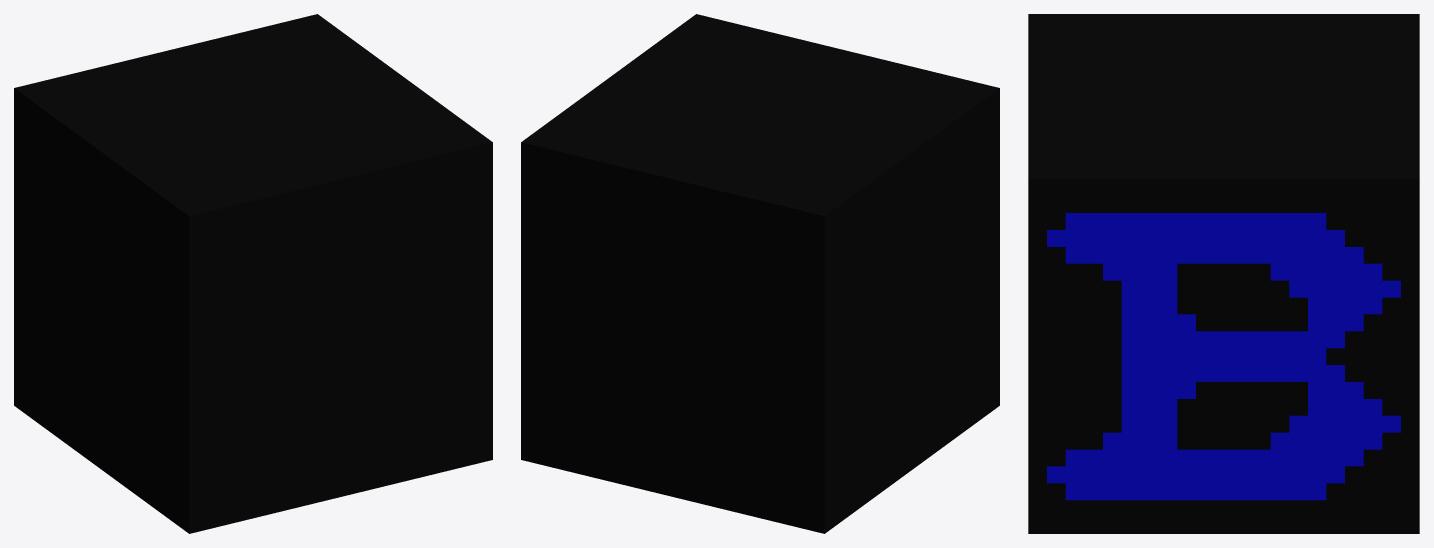
The model's file is bBox.fbx.
3 views of the same model, side by side, from view 1: azimuth 30°, elevation 25°; view 2: azimuth 150°, elevation 25°; view 3: azimuth 270°, elevation 25° (orthographic). The views are drawn at different scales.
Parts seen in each view (by area): view 1: Cube; view 2: Cube; view 3: Cube.
Part boxes in pixels (left/top/right/bottom): Cube: left=14, top=14, right=492, bottom=533; Cube: left=521, top=14, right=999, bottom=533; Cube: left=1028, top=14, right=1419, bottom=533.
Bounding box in the file's own units: 200 × 200 × 200.
